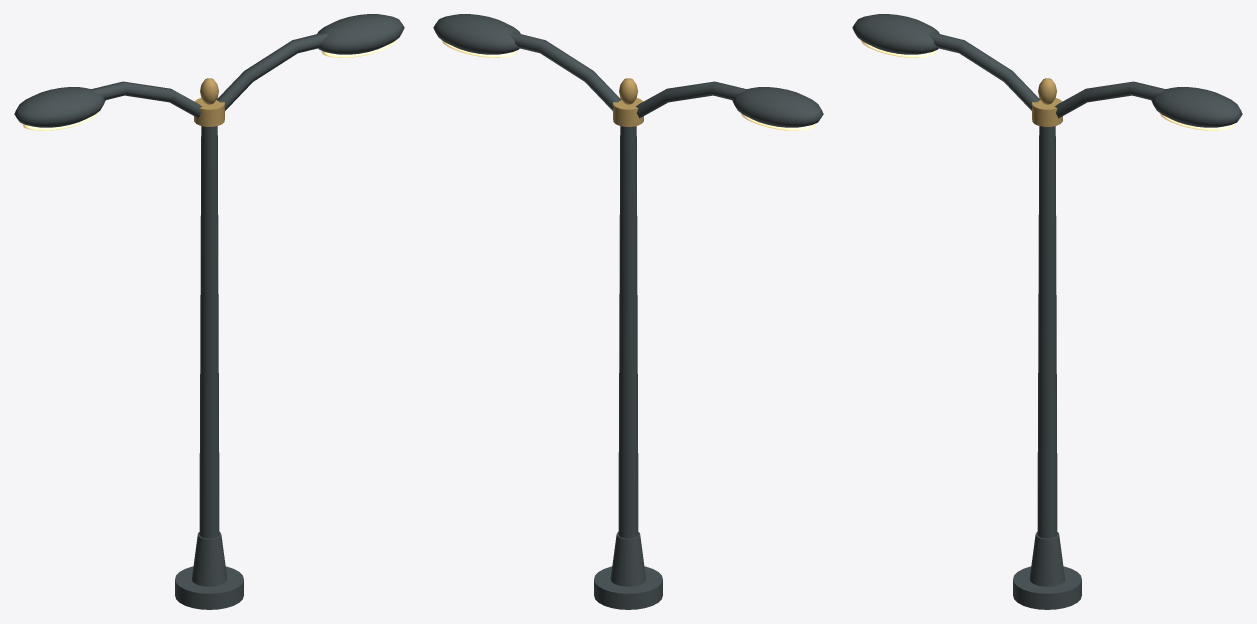
File: streetlight_twin_arm.glb
3 views of the same model, side by side, from view 1: azimuth 30°, elevation 25°; view 2: azimuth 150°, elevation 25°; view 3: azimuth 330°, elevation 25° (orthographic).
Parts seen in each view (by area): view 1: Twin_Streetlight_Pole, Twin_Streetlight_Shade_-1, Twin_Streetlight_Shade_1, Twin_Streetlight_Foot, Twin_Streetlight_Arm_1, Twin_Streetlight_Base, Twin_Streetlight_Arm_-1, Twin_Streetlight_Crown; view 2: Twin_Streetlight_Pole, Twin_Streetlight_Shade_-1, Twin_Streetlight_Shade_1, Twin_Streetlight_Foot, Twin_Streetlight_Arm_1, Twin_Streetlight_Base, Twin_Streetlight_Arm_-1, Twin_Streetlight_Crown; view 3: Twin_Streetlight_Pole, Twin_Streetlight_Shade_1, Twin_Streetlight_Shade_-1, Twin_Streetlight_Foot, Twin_Streetlight_Arm_-1, Twin_Streetlight_Base, Twin_Streetlight_Arm_1, Twin_Streetlight_Crown.
Boxes of the visible parts, x1,y1,x2,y2 form: Twin_Streetlight_Pole: [199, 126, 219, 538]; Twin_Streetlight_Shade_-1: [14, 87, 105, 127]; Twin_Streetlight_Shade_1: [317, 14, 404, 54]; Twin_Streetlight_Foot: [175, 566, 243, 609]; Twin_Streetlight_Arm_1: [216, 32, 328, 110]; Twin_Streetlight_Base: [191, 532, 227, 586]; Twin_Streetlight_Arm_-1: [90, 81, 202, 118]; Twin_Streetlight_Crown: [194, 98, 224, 126]; Twin_Streetlight_Pole: [618, 126, 638, 538]; Twin_Streetlight_Shade_-1: [732, 87, 823, 127]; Twin_Streetlight_Shade_1: [433, 14, 520, 54]; Twin_Streetlight_Foot: [594, 566, 662, 609]; Twin_Streetlight_Arm_1: [509, 32, 621, 110]; Twin_Streetlight_Base: [610, 532, 646, 586]; Twin_Streetlight_Arm_-1: [635, 81, 747, 118]; Twin_Streetlight_Crown: [613, 98, 643, 126]; Twin_Streetlight_Pole: [1037, 126, 1057, 538]; Twin_Streetlight_Shade_1: [1151, 87, 1242, 127]; Twin_Streetlight_Shade_-1: [852, 14, 939, 54]; Twin_Streetlight_Foot: [1013, 566, 1081, 609]; Twin_Streetlight_Arm_-1: [928, 32, 1040, 110]; Twin_Streetlight_Base: [1029, 532, 1065, 586]; Twin_Streetlight_Arm_1: [1054, 81, 1166, 118]; Twin_Streetlight_Crown: [1032, 98, 1062, 126].
Size of the model in its own units: 3.74 by 4.99 by 0.58.
